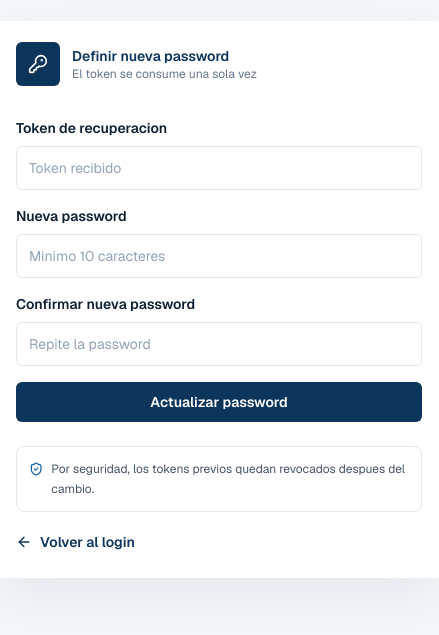
Password reset › confirms a reset token and updates the password
Type "reset-token" into the field labelled "Token de recuperacion" at (219, 168), box [16,146,422,190]
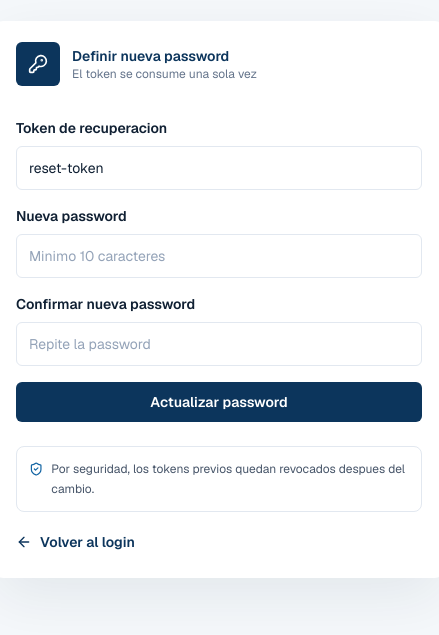
Type "NewPilotPassword123!" into the password field labelled "Nueva password" at (219, 256), box [16,234,422,278]
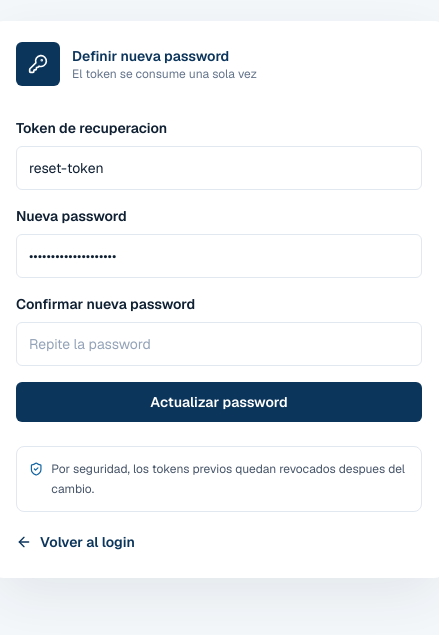
Type "NewPilotPassword123!" into the password field labelled "Confirmar nueva password" at (219, 344), box [16,322,422,366]
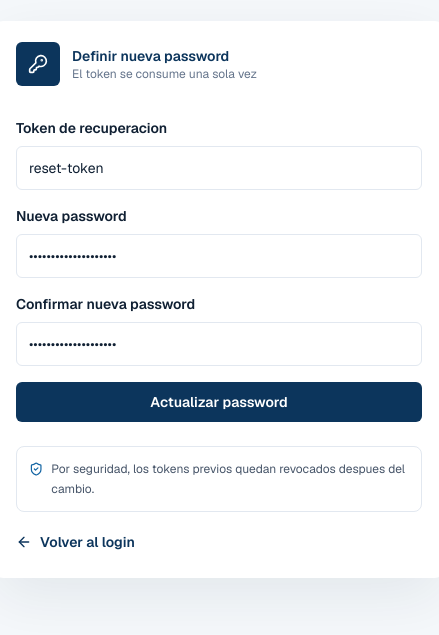
Click the button "Actualizar password" at (219, 402), box [16,382,422,422]
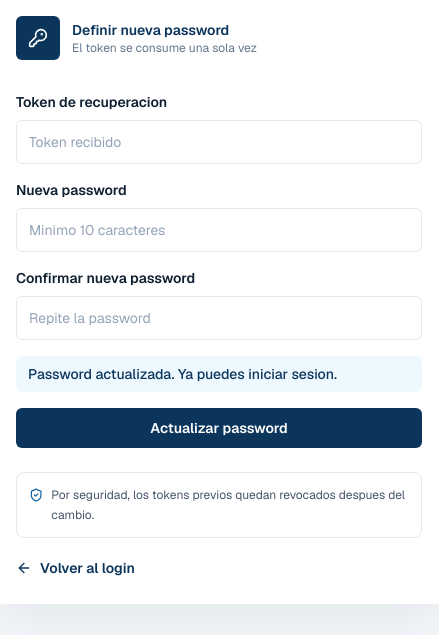
Expected: the text "Password actualizada. Ya puedes iniciar sesion." is shown, [16,356,422,392]
